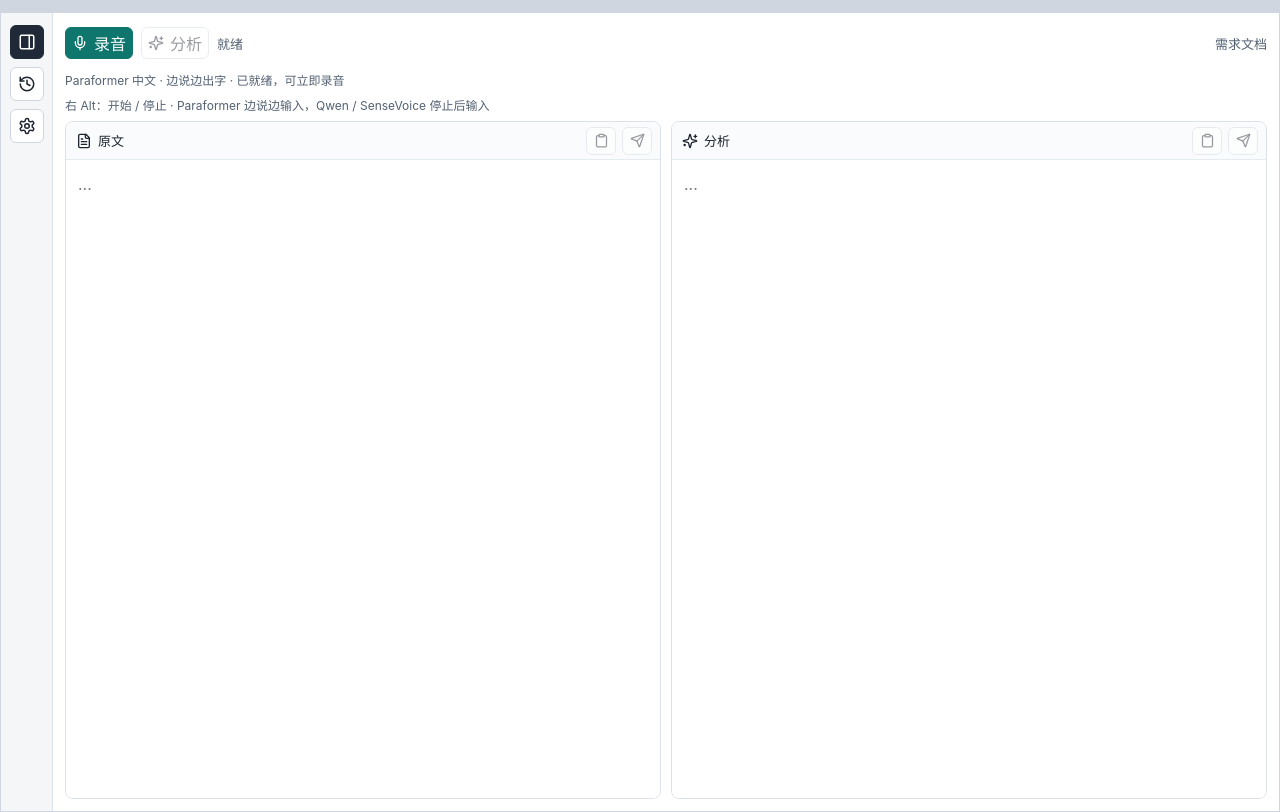
it: model selection and live recording › keeps settings usable while models are loading in the background
Click the button titled "设置". click: (26, 126)
box: [10,109,44,143]
(page scrolled)
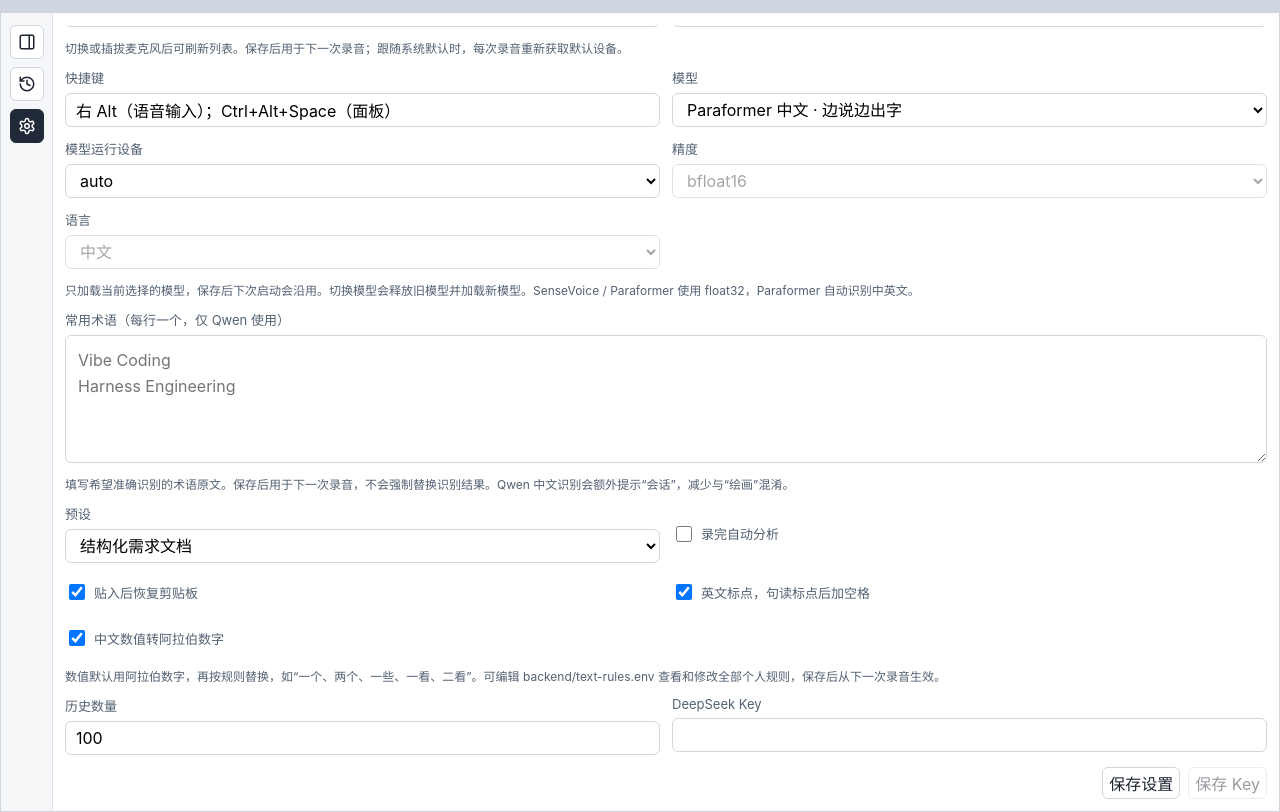
Click the button "保存设置". click: (1141, 783)
box: [1102,767,1180,799]
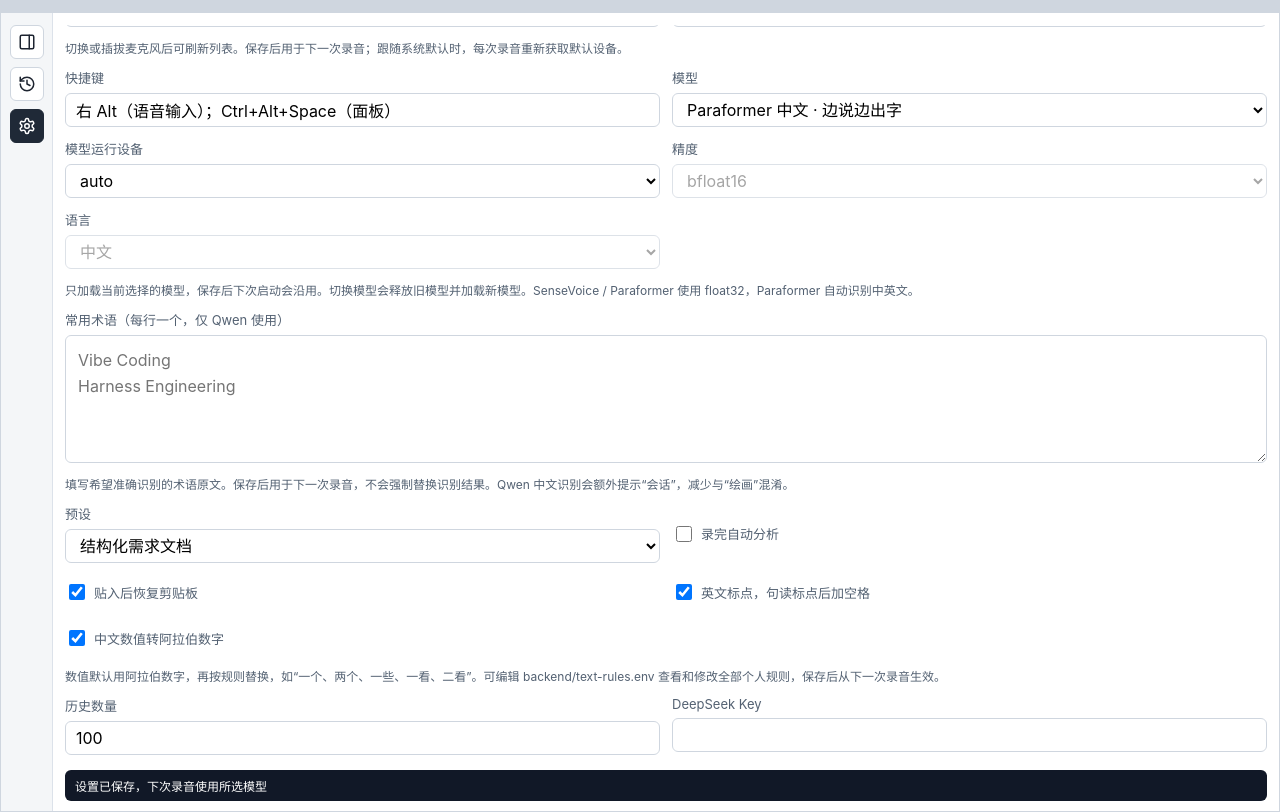
Now the element that starts with "麦克风" is enabled
Click the button named "输入". click: (26, 42)
box: [10,25,44,59]
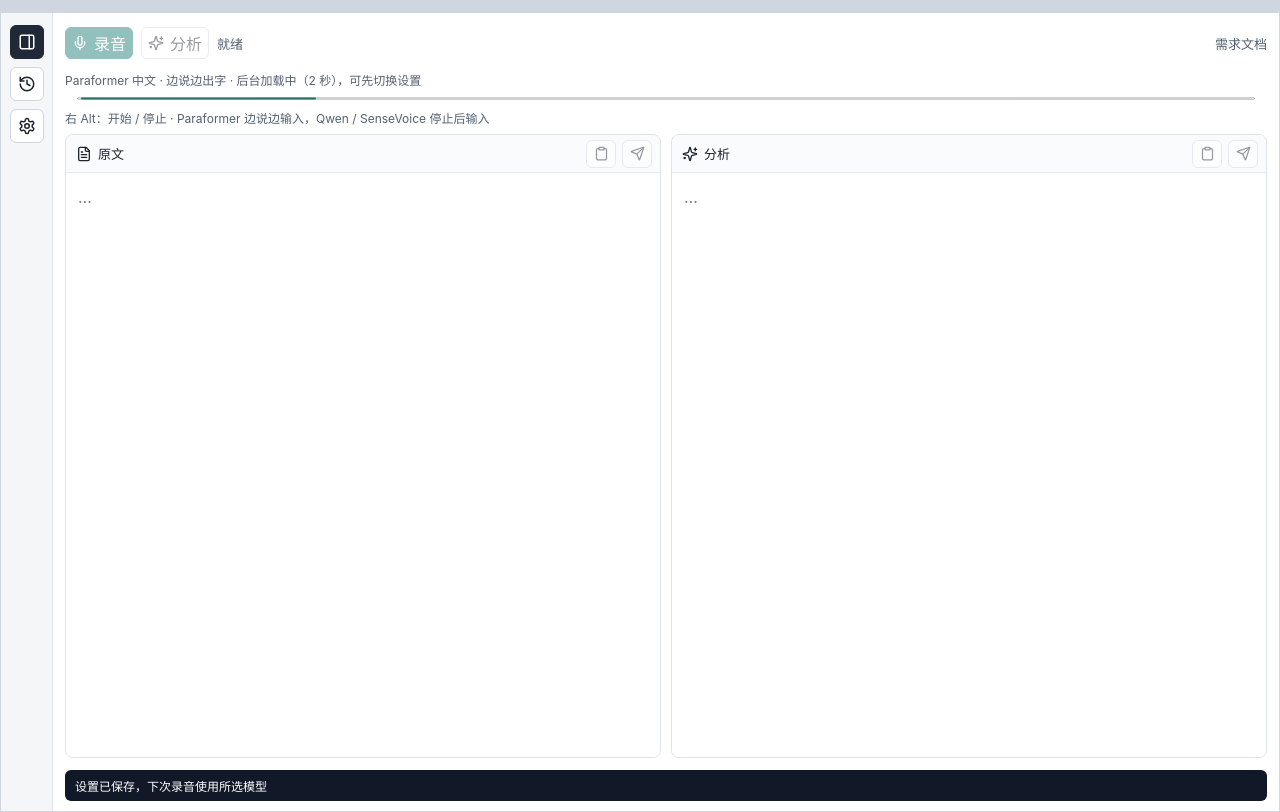
Now the button "录音" is disabled, box [65,27,133,59]
Now the text "后台加载中" is shown, box [236,73,421,88]
